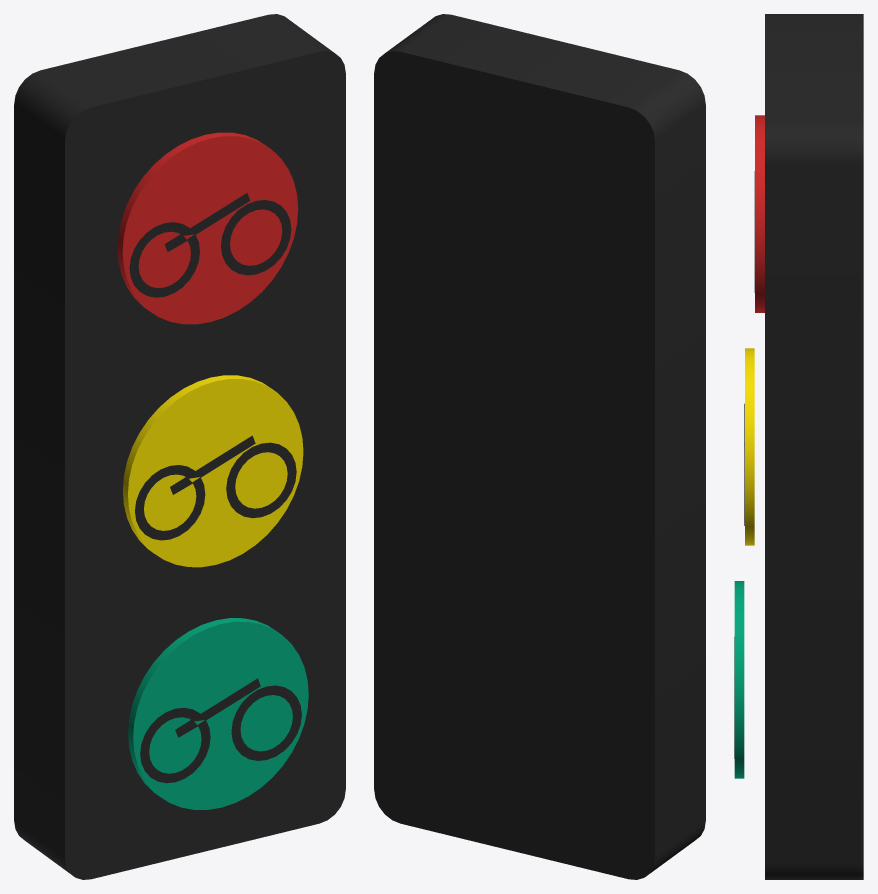
3 views of the same model, side by side, from view 1: azimuth 30°, elevation 25°; view 2: azimuth 150°, elevation 25°; view 3: azimuth 270°, elevation 25° (orthographic). The views are drawn at different scales.
Parts seen in each view (by area): view 1: R13c_r00, R13c_d276, R13c_d250, R13c_d302, R13c_s275, R13c_s301, R13c_s327; view 2: R13c_r00; view 3: R13c_r00, R13c_d302, R13c_d250, R13c_d276.
Part boxes in pixels (box(x1,y1,x2,y2)): R13c_r00: box(14, 14, 345, 879); R13c_d276: box(123, 375, 303, 567); R13c_d250: box(117, 132, 298, 324); R13c_d302: box(128, 618, 308, 809); R13c_s275: box(129, 193, 291, 297); R13c_s301: box(135, 435, 296, 540); R13c_s327: box(140, 678, 301, 783); R13c_r00: box(374, 14, 705, 879); R13c_r00: box(765, 14, 863, 879); R13c_d302: box(734, 581, 744, 778); R13c_d250: box(755, 115, 764, 312); R13c_d276: box(745, 348, 754, 545).
Size of the model in its own units: 0.32 by 0.84 by 0.1312.
